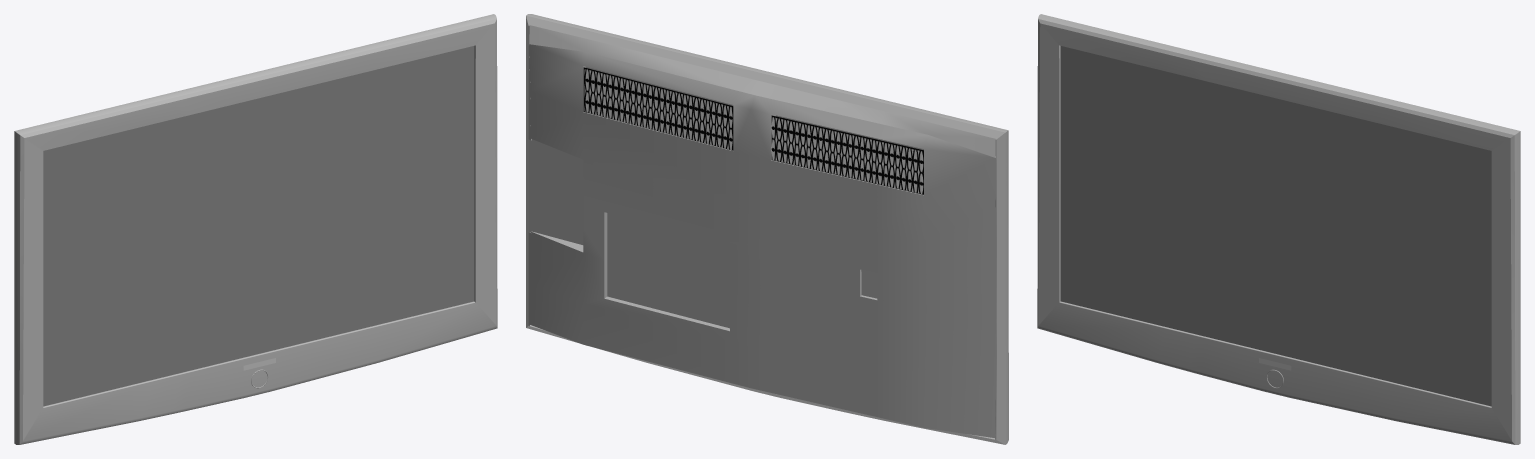
The model's file is samsung_tv.fbx.
The picture shows the model from 3 angles, left to right: view 1: azimuth 30°, elevation 25°; view 2: azimuth 150°, elevation 25°; view 3: azimuth 330°, elevation 25°; orthographic projection.
Parts seen in each view (by area): view 1: front1; view 2: back, front1, fan1, fan2; view 3: front1.
Part boxes in pixels (x1,y1,x2,y2): front1: [14, 14, 497, 444]; back: [529, 25, 995, 437]; front1: [526, 14, 1008, 444]; fan1: [771, 115, 923, 194]; fan2: [583, 67, 733, 150]; front1: [1037, 14, 1520, 444].
Size of the model in its own units: 115 by 73.28 by 8.47.
